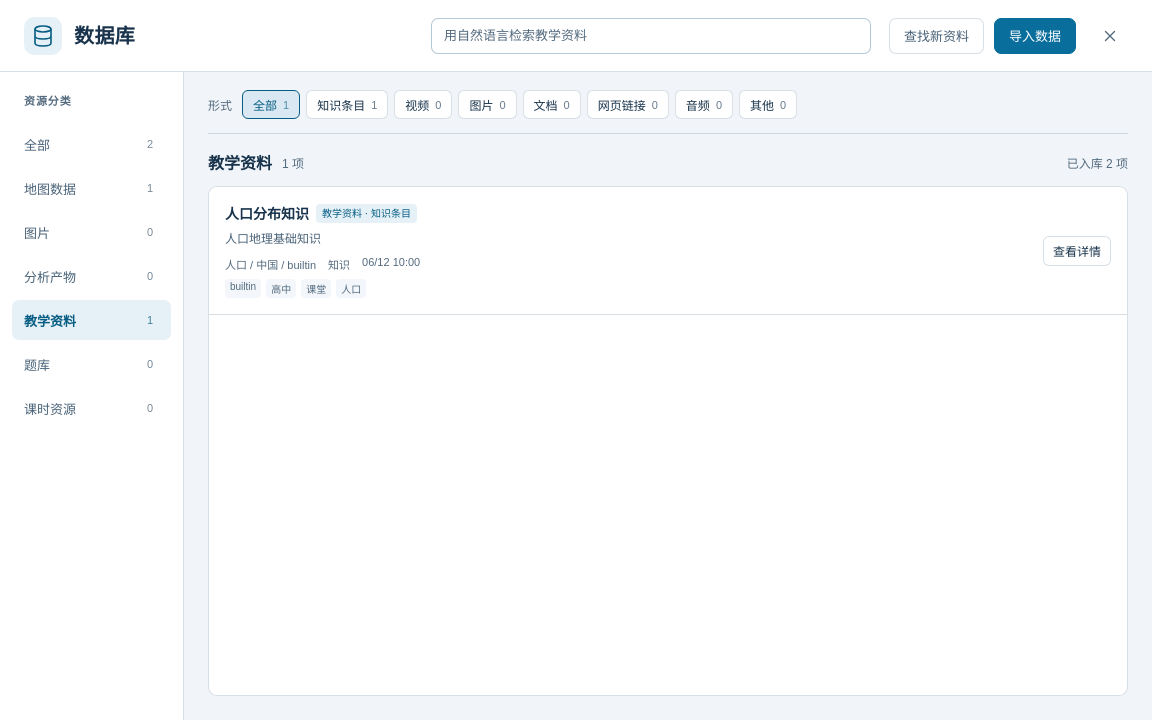
Test: DatabaseViewer › uses backend semantic results without applying a second literal filter
Type "上海2020年人口普查资料" into the field named "语义检索教学资料".
click(651, 36); type("上海2020年人口普查资料")  # box [431, 18, 871, 54]
Wait 250 ms
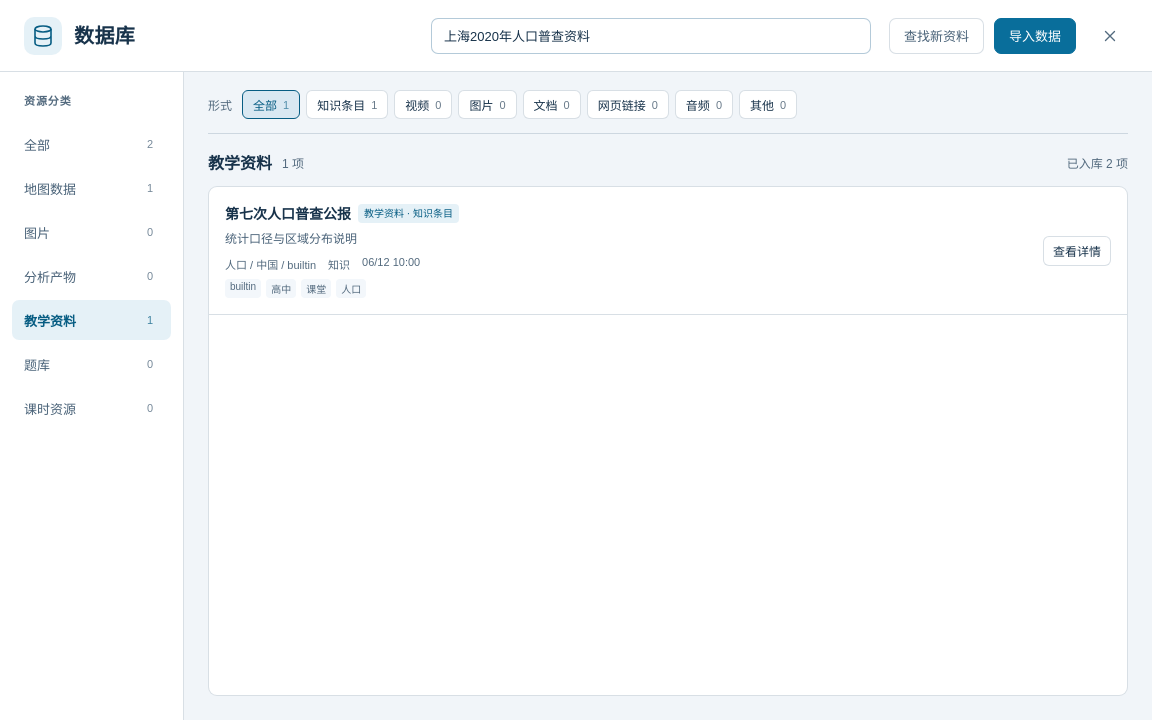
Now the text "第七次人口普查公报" is shown, box [225, 203, 351, 223]
